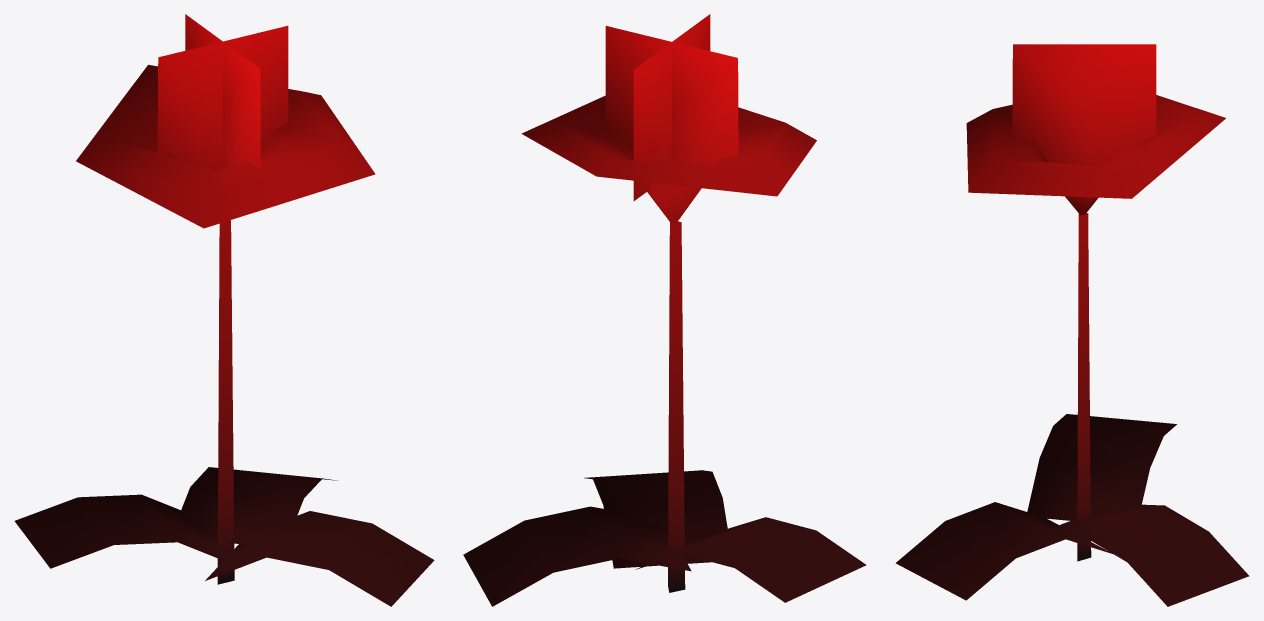
File: SM_Flower6.fbx
The picture shows the model from 3 angles, left to right: view 1: azimuth 30°, elevation 25°; view 2: azimuth 150°, elevation 25°; view 3: azimuth 270°, elevation 25°; orthographic projection. The views are drawn at different scales.
Parts seen in each view (by area): view 1: Flower6; view 2: Flower6; view 3: Flower6.
Part boxes in pixels (x1,y1,x2,y2): Flower6: (14,14,434,606); Flower6: (463,14,866,606); Flower6: (895,44,1249,606).
Size of the model in its own units: 0.2043 by 0.3061 by 0.1913.
